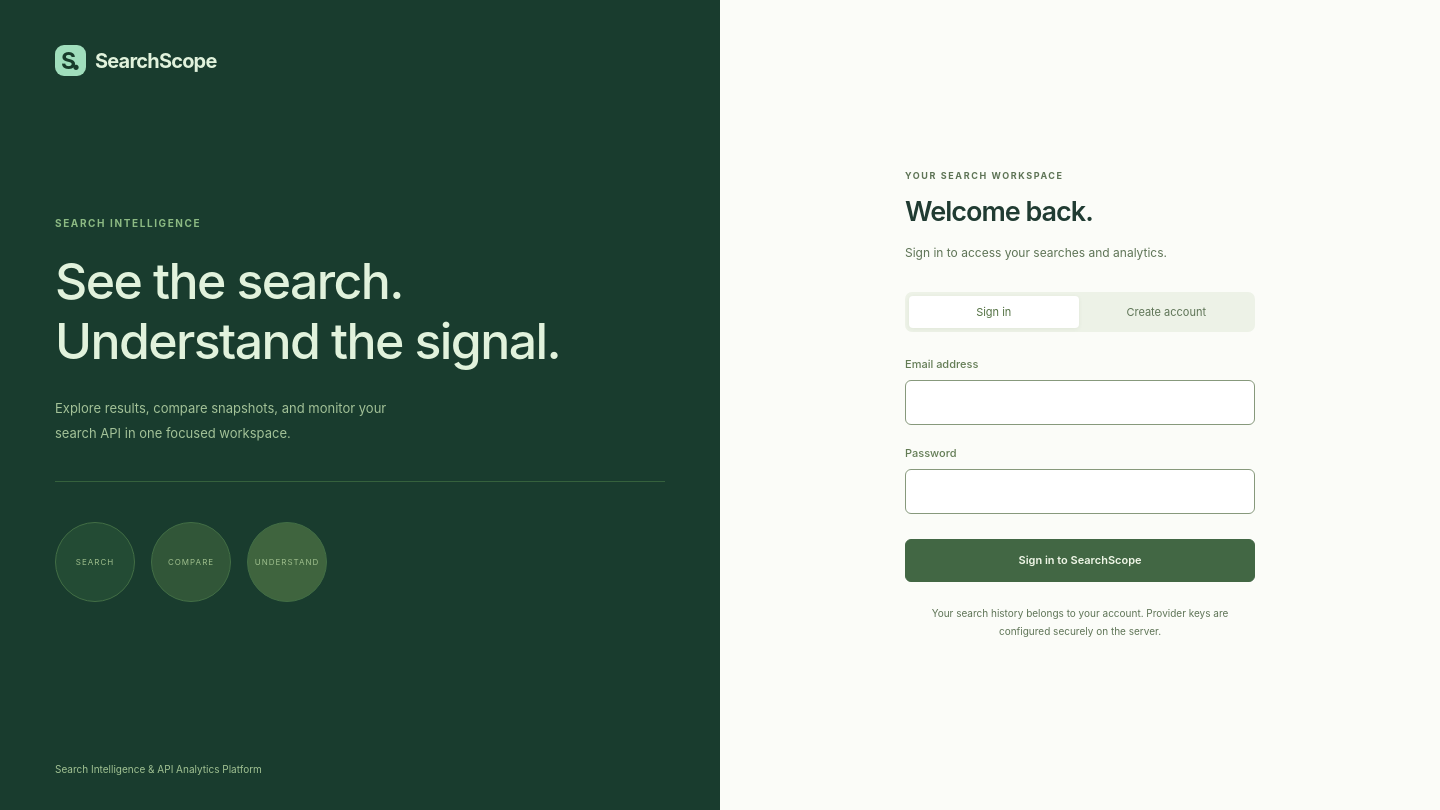
Test case: account access and navigation › shows login failure and can sign in without inventing analytics
The width and height of the screenshot is (1440, 810).
Type "researcher@example.test" into the field labelled "Email address" at (1080, 402), box top-left (905, 380), bottom-right (1255, 425)
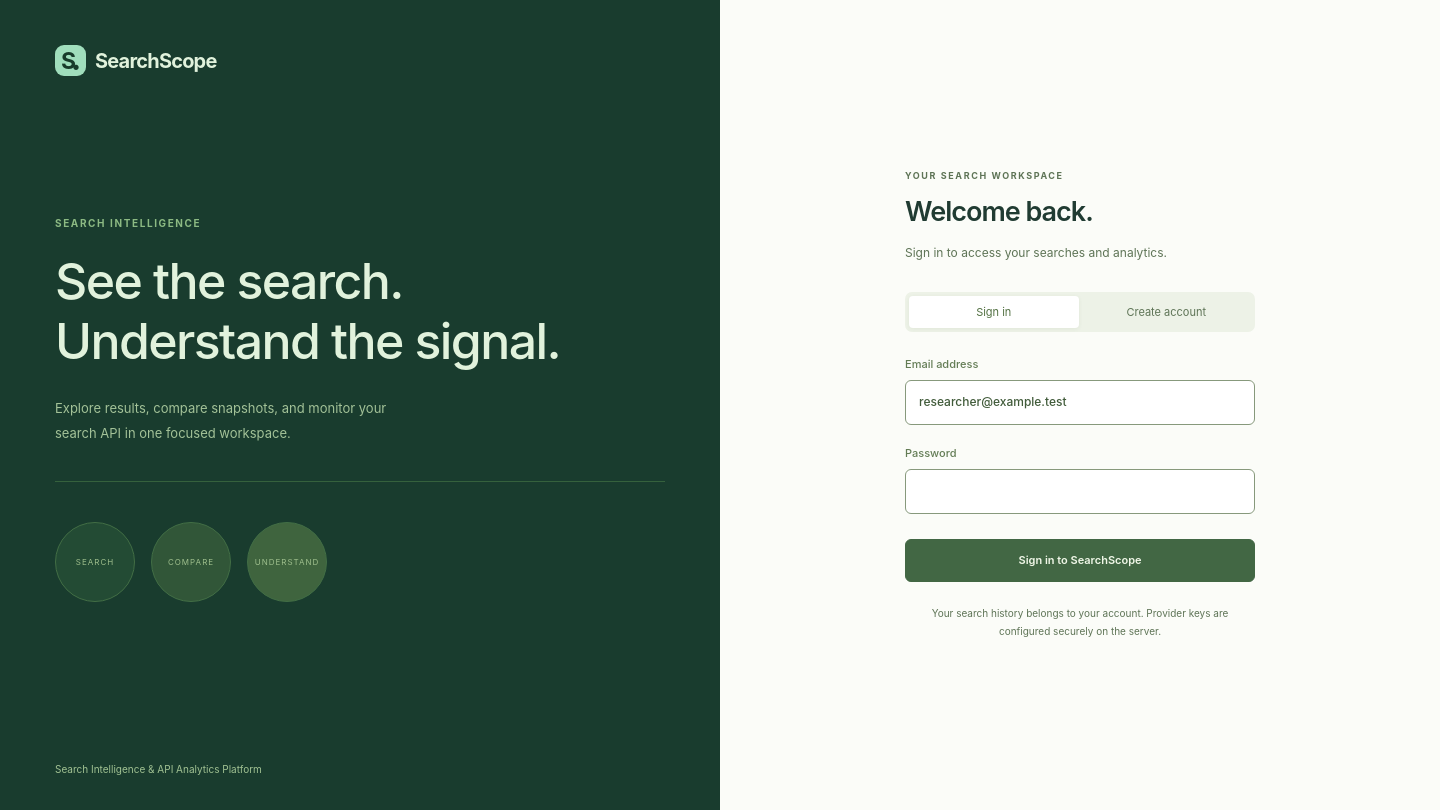
Type "correct-password" into the password field labelled "Password" at (1080, 491), box top-left (905, 469), bottom-right (1255, 514)
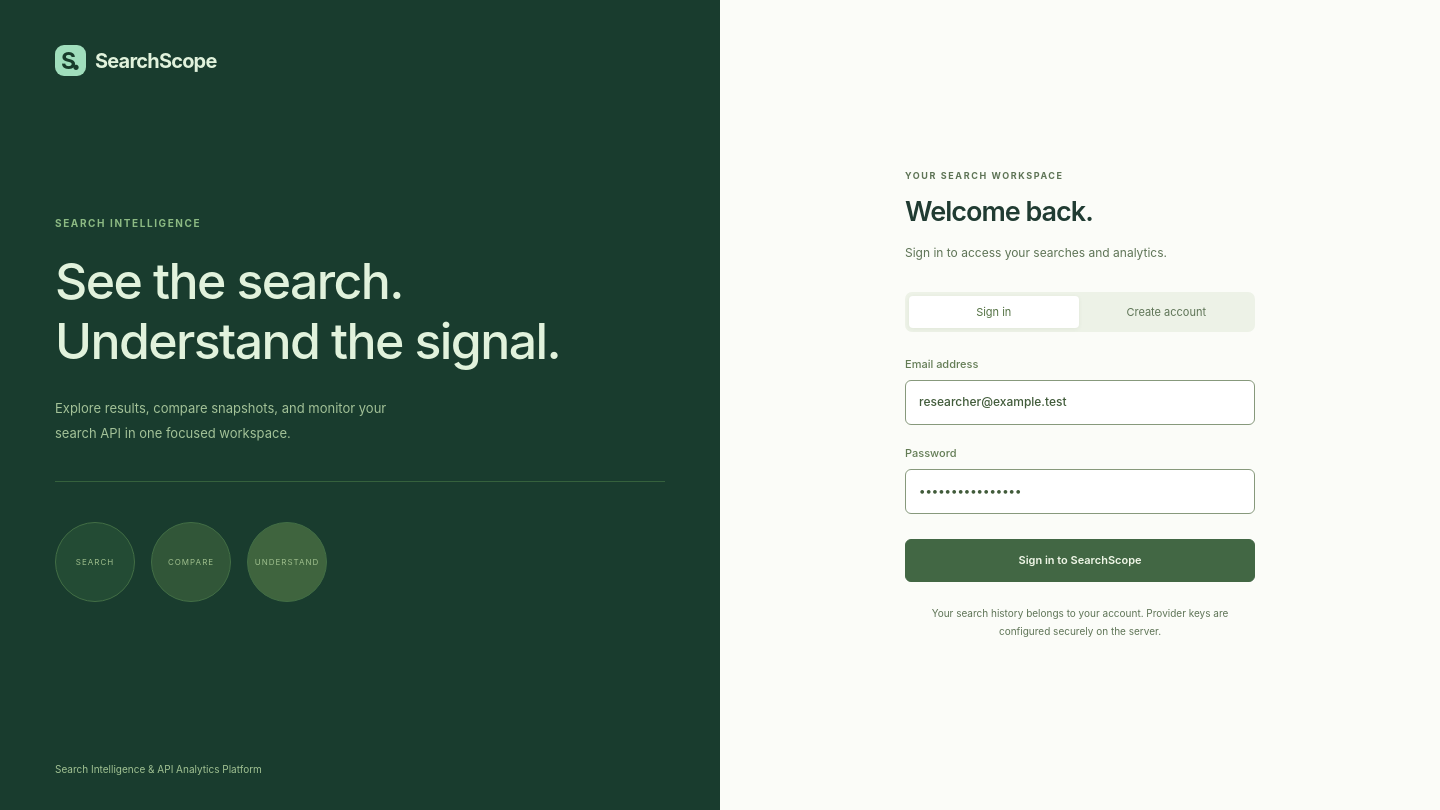
Click the button "Sign in to SearchScope" at (1080, 560), box top-left (905, 538), bottom-right (1255, 582)
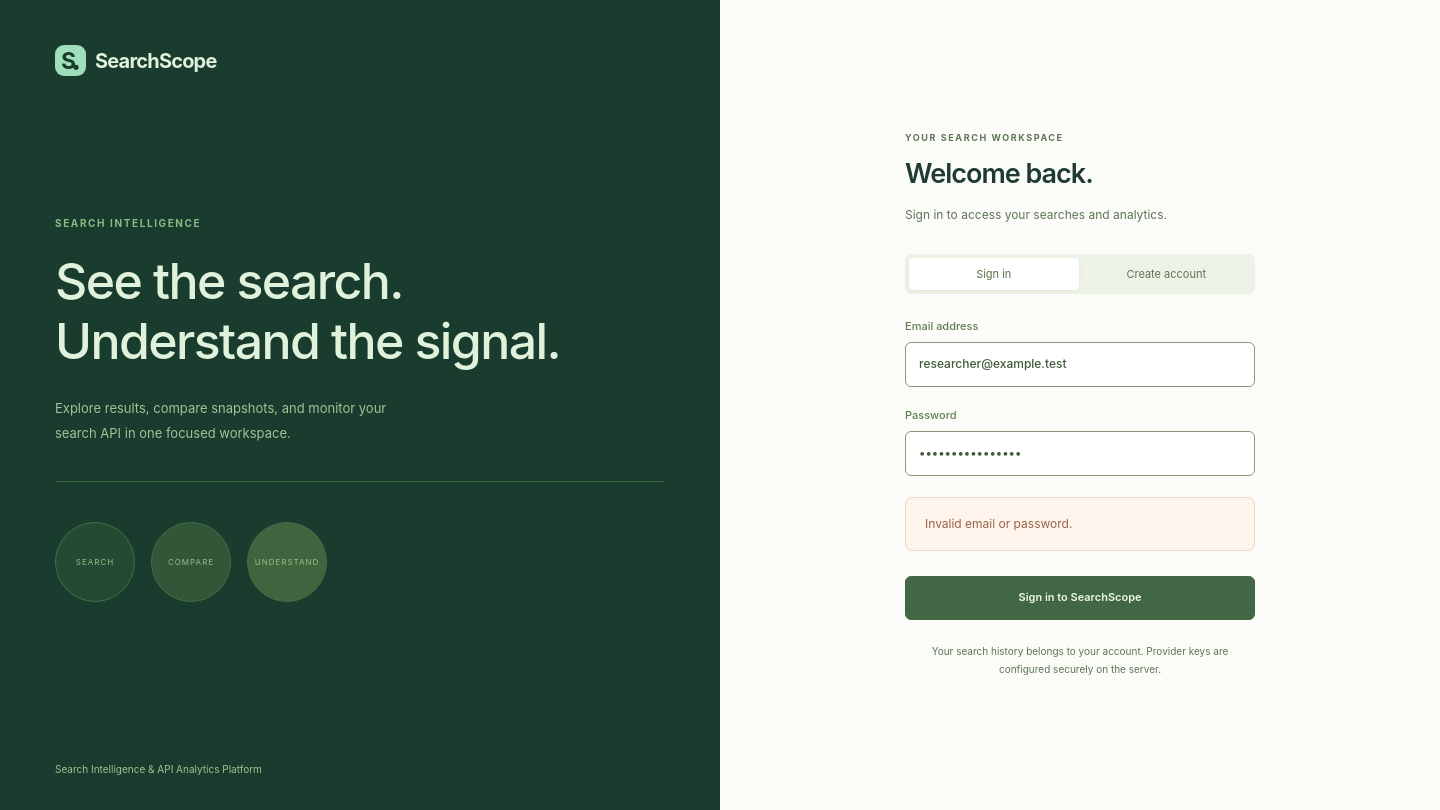
Expected: the message reads "Invalid email or password.", top-left (925, 516), bottom-right (1072, 531)
Click the button "Sign in to SearchScope" at (1080, 598), box top-left (905, 576), bottom-right (1255, 620)
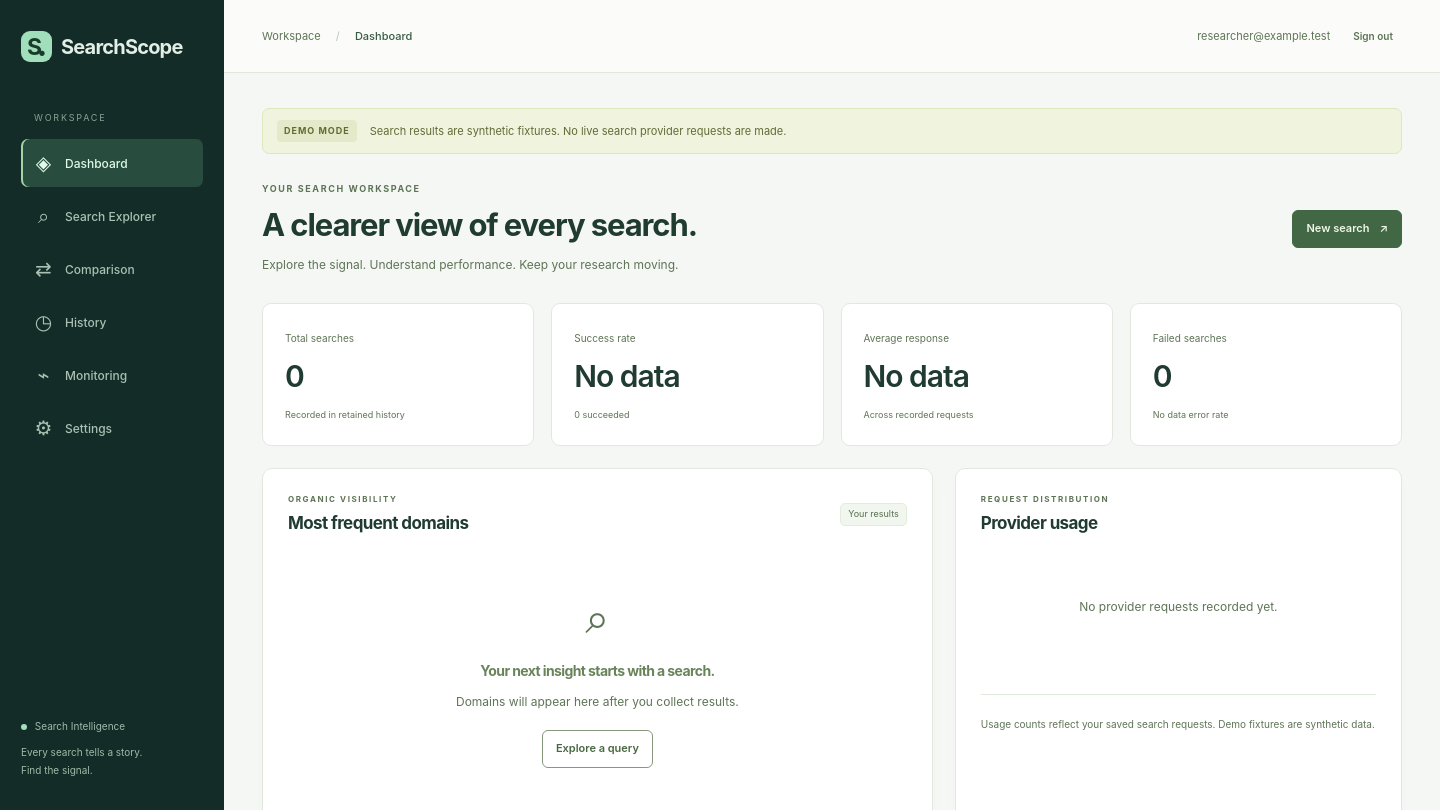
Expected: the heading "A clearer view of every search." is shown, top-left (262, 204), bottom-right (697, 245)
Expected: the text "DEMO MODE" is shown, top-left (277, 120), bottom-right (357, 142)
Expected: the text "No data" is shown 2 times, top-left (574, 358), bottom-right (680, 394); top-left (864, 358), bottom-right (969, 394)
Click the link "⌕ Search Explorer" at (97, 216), box top-left (38, 204), bottom-right (156, 228)
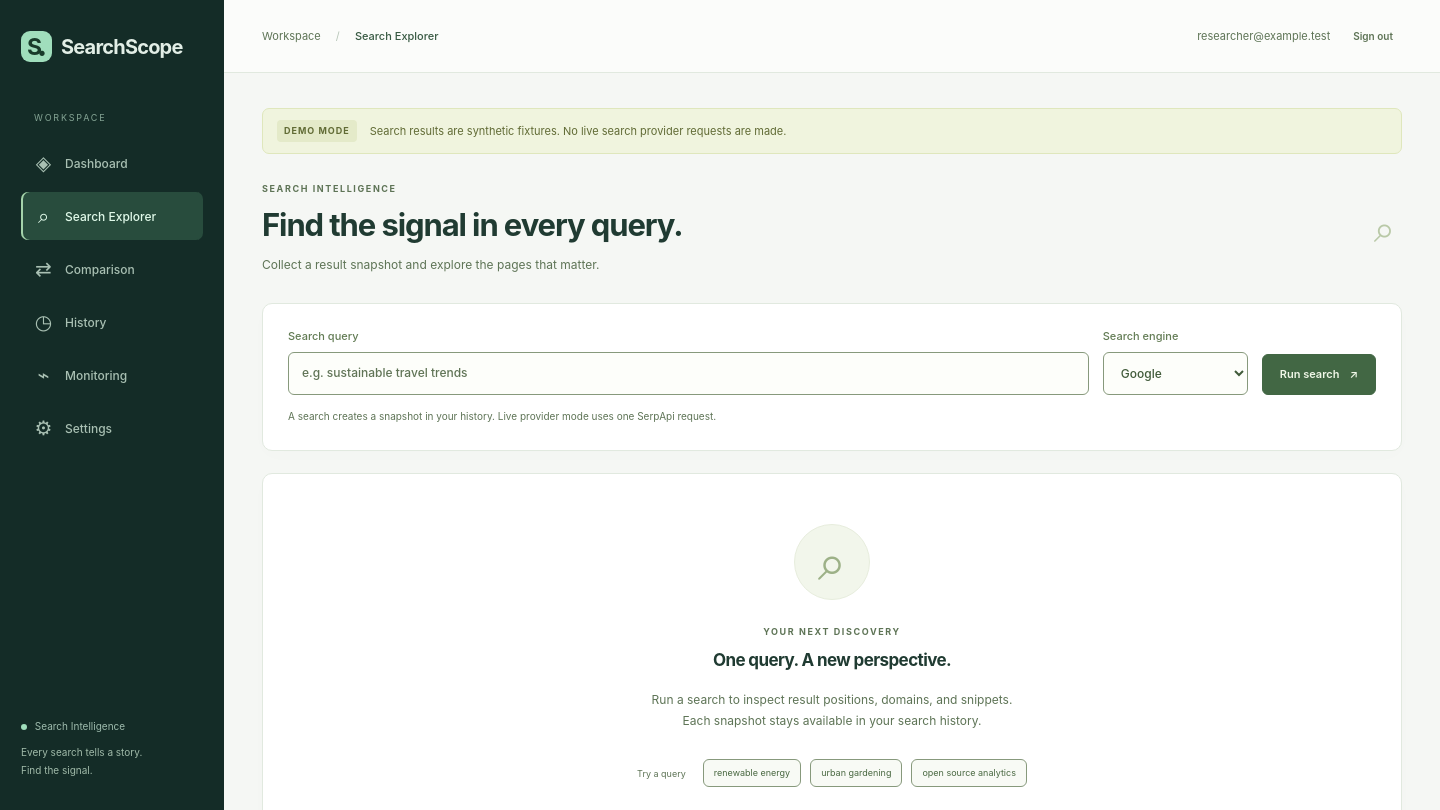
Expected: the heading "Find the signal in every query." is shown, top-left (262, 204), bottom-right (682, 245)
